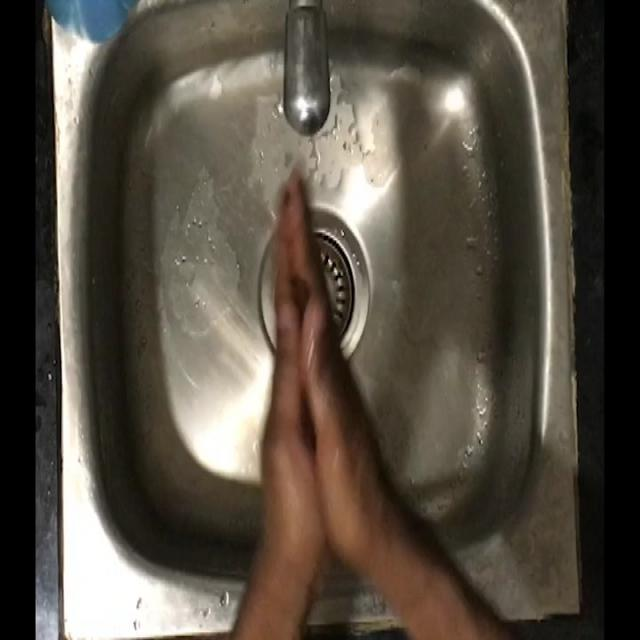step_1: (236, 160, 382, 540)
